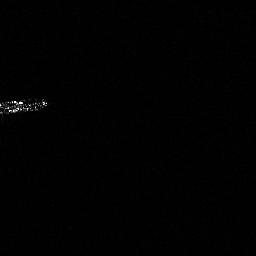ship: (1, 94, 50, 119)
